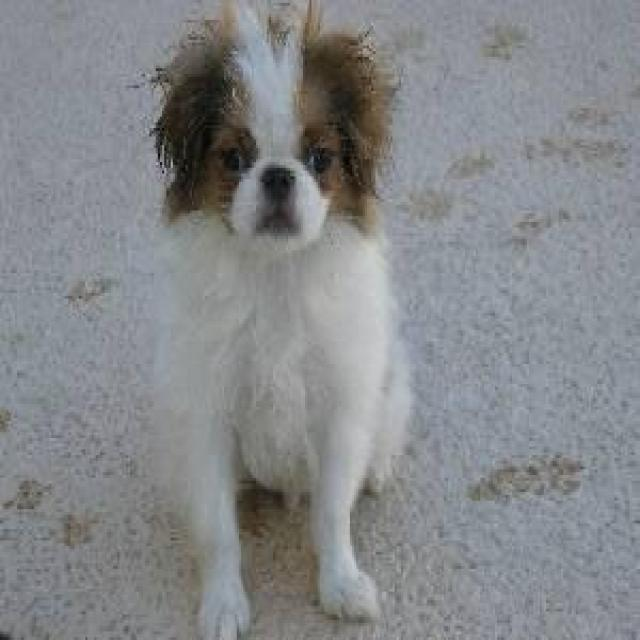husky: (152, 6, 410, 634)
